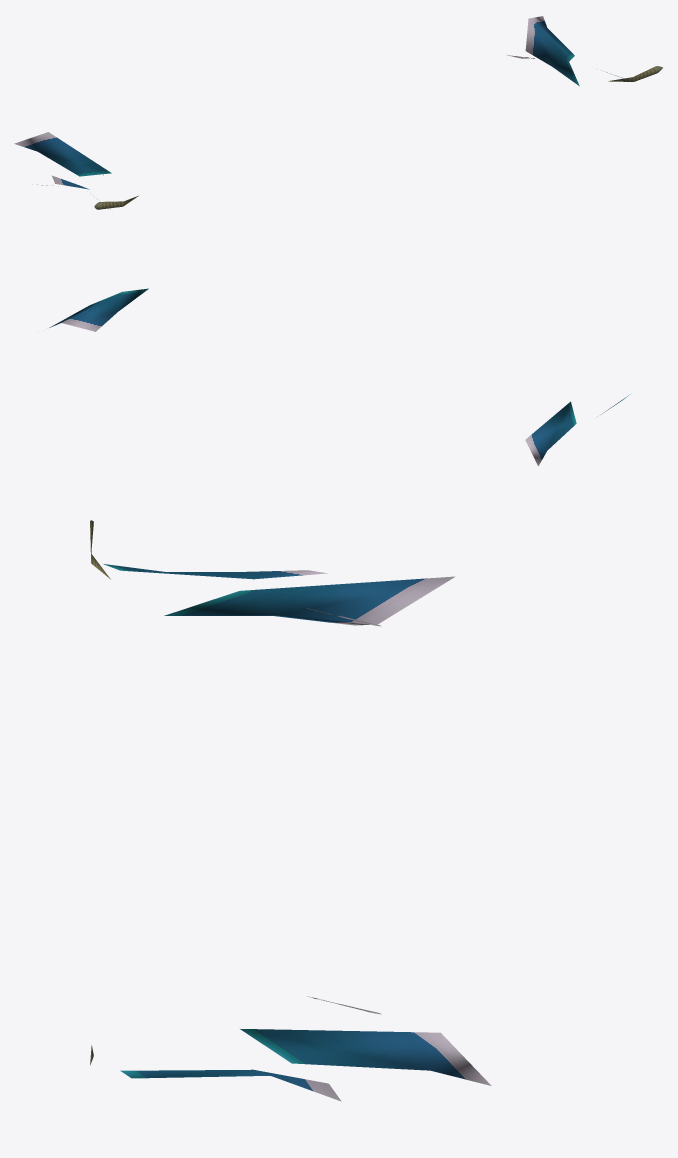
The model's file is model_eventbanner.glb.
The picture shows the model from 3 angles, top to bottom: view 1: azimuth 30°, elevation 25°; view 2: azimuth 150°, elevation 25°; view 3: azimuth 270°, elevation 25°; orthographic projection. The views are drawn at different scales.
Parts seen in each view (by area): view 1: hangingcloth.model_eventbanner-MeshNodes["mesh_banner"]; view 2: hangingcloth.model_eventbanner-MeshNodes["mesh_banner"]; view 3: hangingcloth.model_eventbanner-MeshNodes["mesh_banner"].
Part boxes in pixels (x1,y1,x2,y2): hangingcloth.model_eventbanner-MeshNodes["mesh_banner"]: (14, 16, 662, 209); hangingcloth.model_eventbanner-MeshNodes["mesh_banner"]: (49, 288, 630, 466); hangingcloth.model_eventbanner-MeshNodes["mesh_banner"]: (90, 520, 491, 1101).
Bounding box in the file's own units: 12.24 × 1.03 × 4.71.
Materials: 1 (1 with a texture image).
